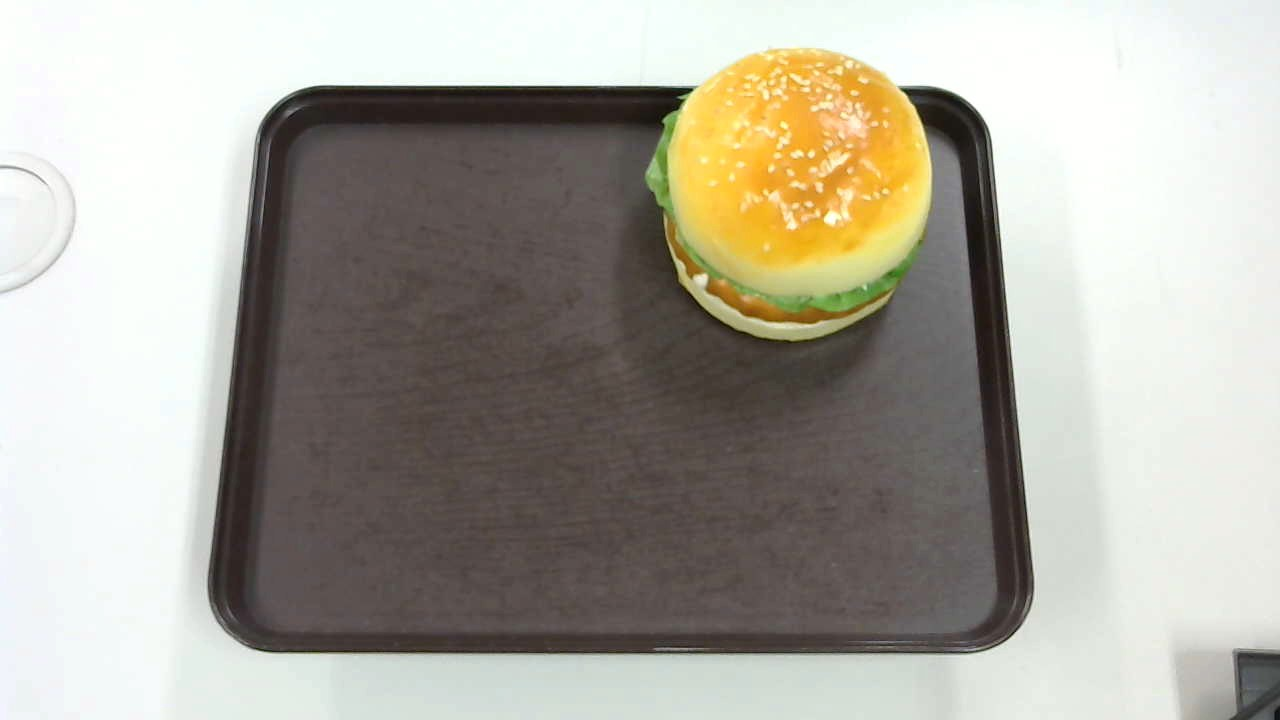hamburger: (646, 45, 932, 342)
